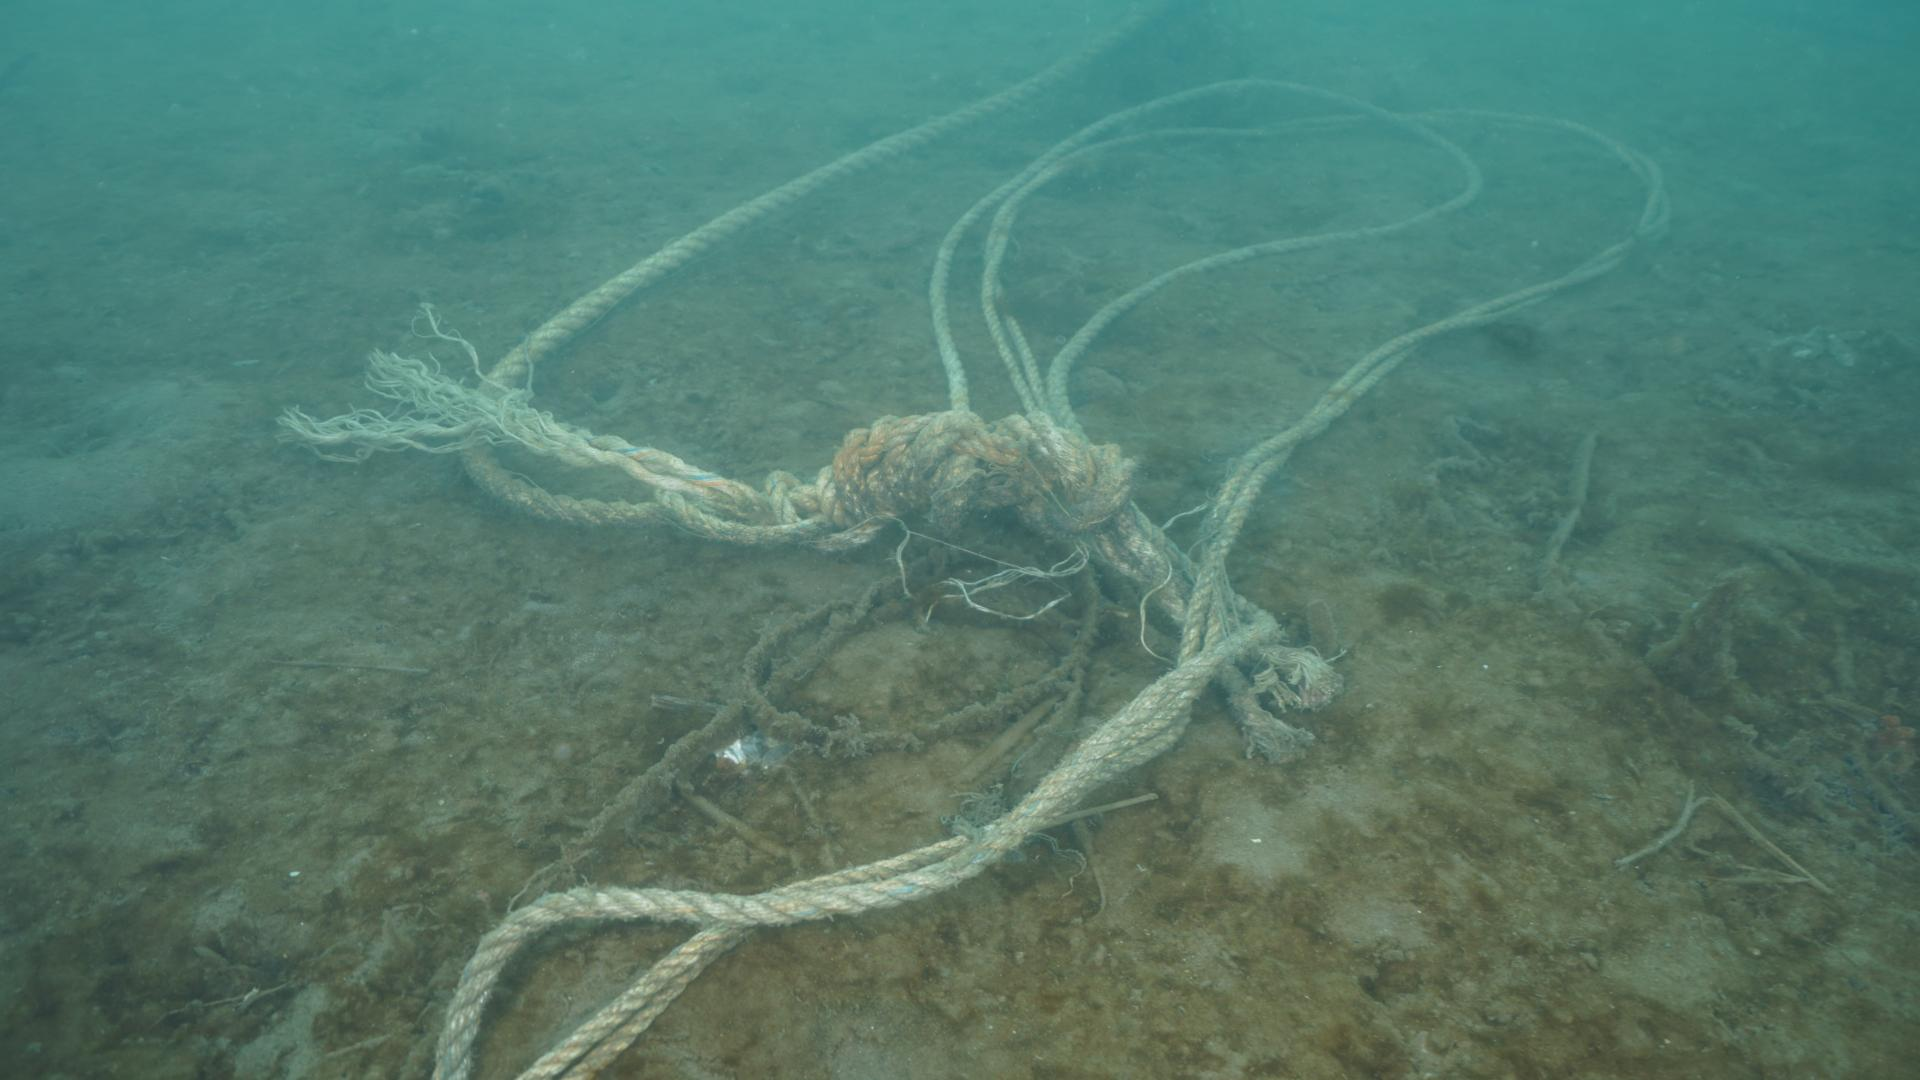bundle of ropes: (429, 3, 1683, 1080)
